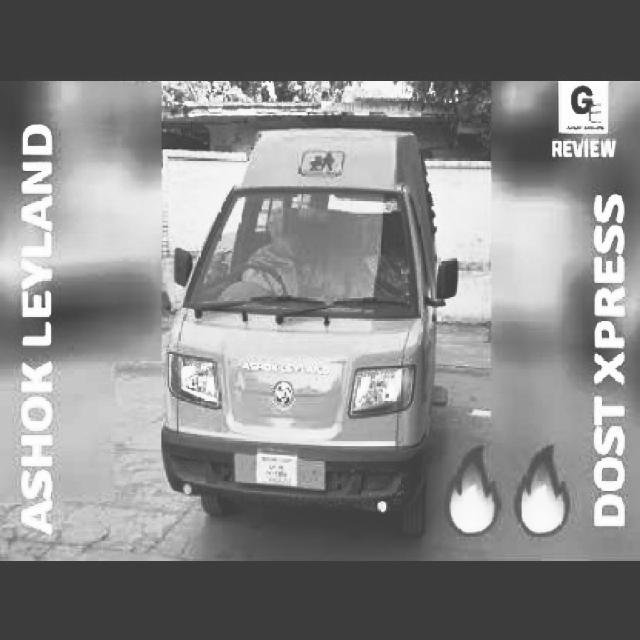LCV: (163, 115, 442, 521)
